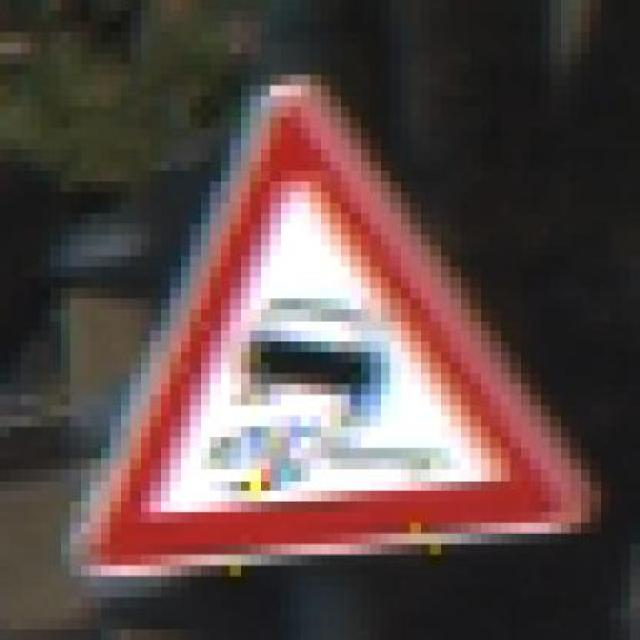Slippery Road Ahead: (42, 75, 602, 577)
